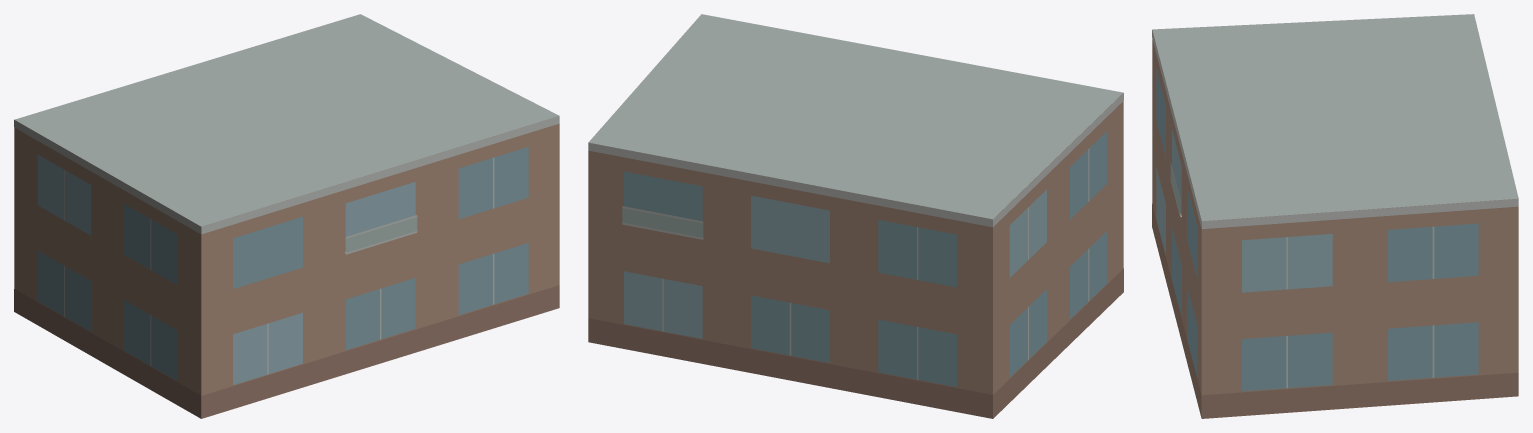
File: survey-upis-33011379.glb
3 renders of one model, left to right at view 1: azimuth 30°, elevation 25°; view 2: azimuth 150°, elevation 25°; view 3: azimuth 270°, elevation 25°, orthographic. The views are drawn at different scales.
Visible parts, largest first — view 1: survey-upis-33011379.tmp; view 2: survey-upis-33011379.tmp; view 3: survey-upis-33011379.tmp.
Boxes of the visible parts, bbox=[...] form: survey-upis-33011379.tmp: bbox=[14, 14, 559, 418]; survey-upis-33011379.tmp: bbox=[588, 14, 1123, 418]; survey-upis-33011379.tmp: bbox=[1152, 14, 1518, 418].
Size of the model in its own units: 13.73 by 6.1 by 10.27.
